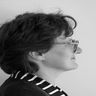ear: (22, 40, 52, 64)
